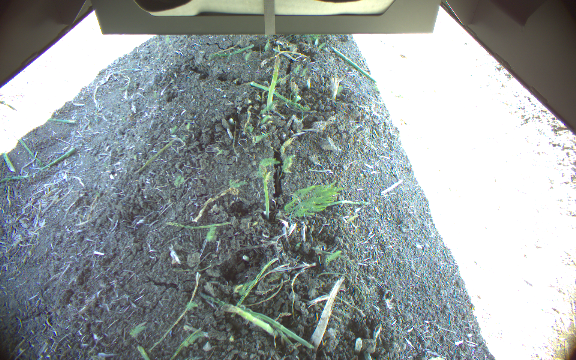aspa: (217, 303, 277, 339), (265, 55, 281, 110), (263, 170, 271, 219)
